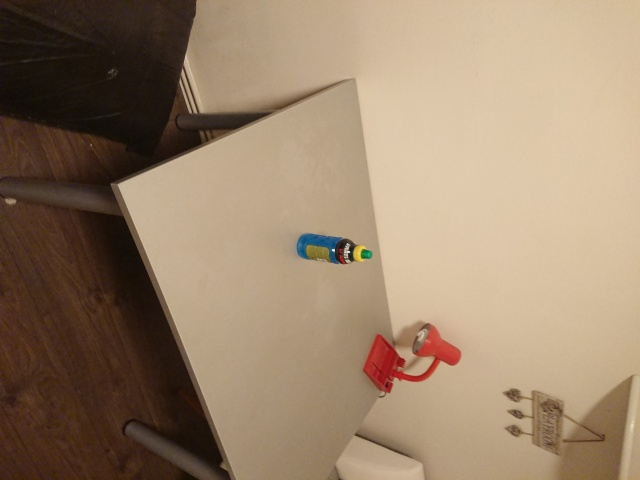Vindi Iso Sport Forest Strawberries 500mL: (295, 231, 372, 264)
